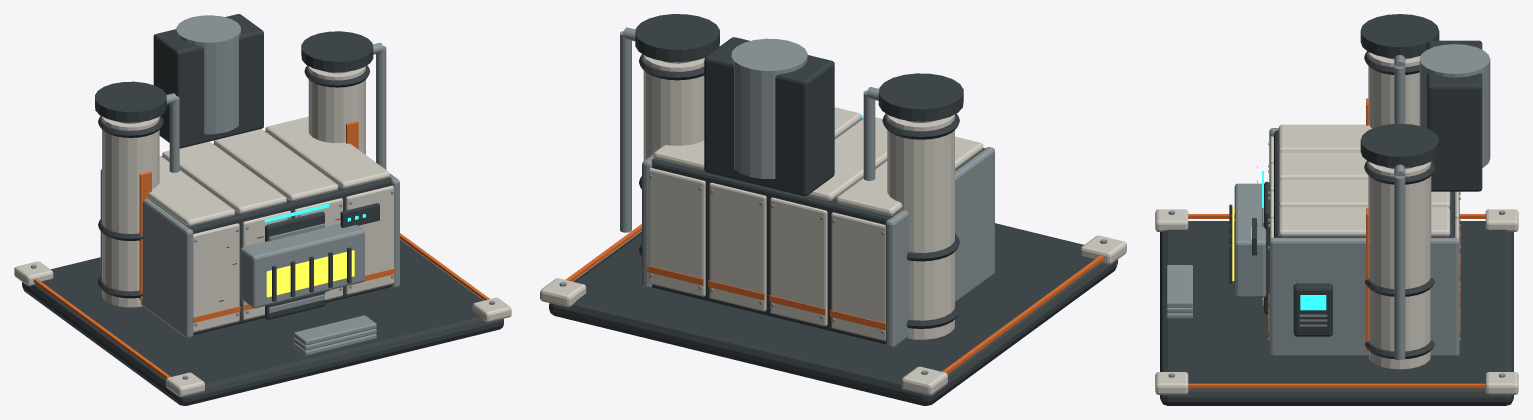
Rendered from SM_ReactorComponentsPlant_Body.002.fbx.
The picture shows the model from 3 angles, left to right: view 1: azimuth 30°, elevation 25°; view 2: azimuth 150°, elevation 25°; view 3: azimuth 270°, elevation 25°; orthographic projection. The views are drawn at different scales.
Visible parts, largest first — view 1: SM_ReactorComponentsPlant_Body.002; view 2: SM_ReactorComponentsPlant_Body.002; view 3: SM_ReactorComponentsPlant_Body.002.
Part boxes in pixels (x1,y1,x2,y2): SM_ReactorComponentsPlant_Body.002: [14, 14, 511, 405]; SM_ReactorComponentsPlant_Body.002: [540, 14, 1126, 405]; SM_ReactorComponentsPlant_Body.002: [1155, 14, 1518, 405].
Bounding box in the file's own units: 532 × 462 × 370.
